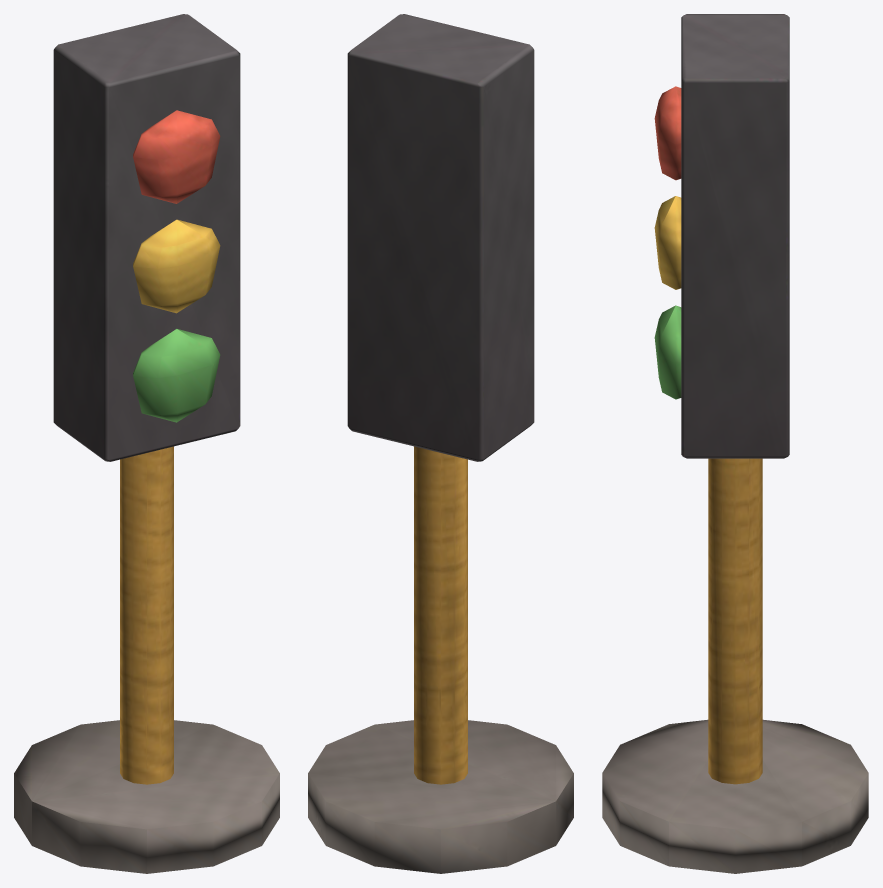
File: race_traffic_light.glb
3 renders of one model, left to right at view 1: azimuth 30°, elevation 25°; view 2: azimuth 150°, elevation 25°; view 3: azimuth 270°, elevation 25°, orthographic.
Parts seen in each view (by area): view 1: Body; view 2: Body; view 3: Body.
Part boxes in pixels (left/top/right/bottom): Body: left=14, top=14, right=279, bottom=873; Body: left=308, top=14, right=573, bottom=873; Body: left=602, top=14, right=868, bottom=873.
Size of the model in its own units: 0.54 by 1.73 by 0.54.
Materials: 1 (1 with a texture image).
